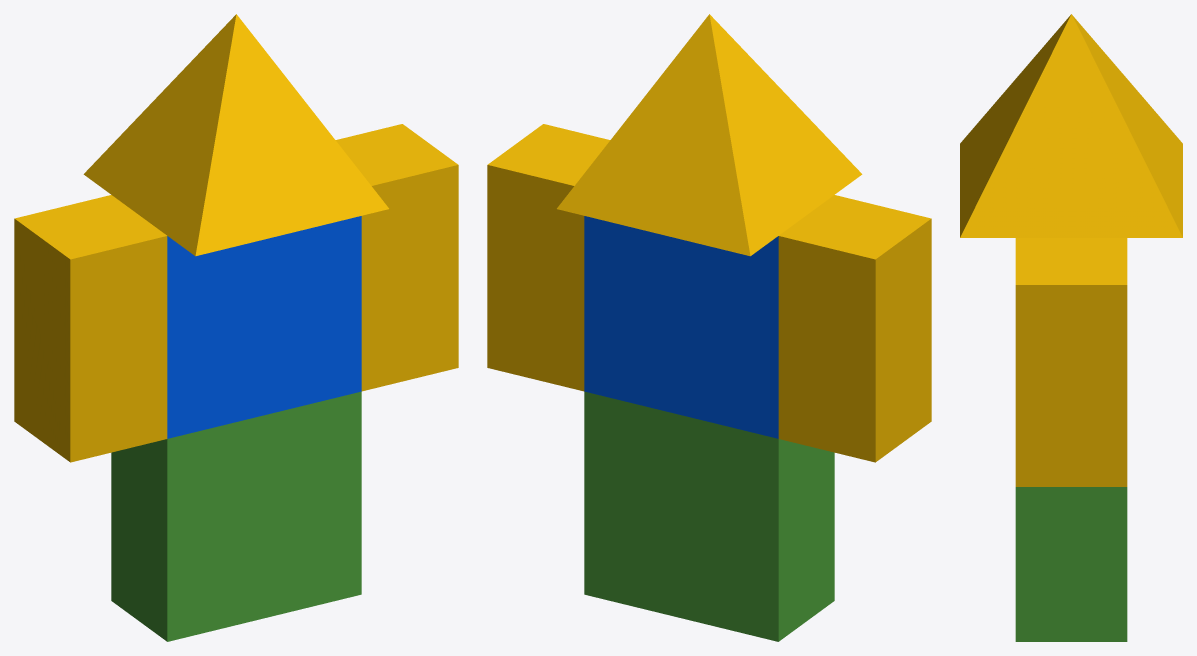
The picture shows the model from 3 angles, left to right: view 1: azimuth 30°, elevation 25°; view 2: azimuth 150°, elevation 25°; view 3: azimuth 270°, elevation 25°; orthographic projection.
Parts seen in each view (by area): view 1: mesh (×5), pyramid; view 2: mesh (×5), pyramid; view 3: mesh (×2), pyramid.
Part boxes in pixels (x1=…): mesh (×5): x1=14, y1=124, x2=458, y2=641; pyramid: x1=83, y1=14, x2=388, y2=256; mesh (×5): x1=487, y1=124, x2=931, y2=641; pyramid: x1=557, y1=14, x2=862, y2=256; mesh (×2): x1=1015, y1=238, x2=1127, y2=641; pyramid: x1=960, y1=14, x2=1182, y2=237.
Size of the model in its own units: 2 by 2.88 by 1.
6 materials, 6 textured.
